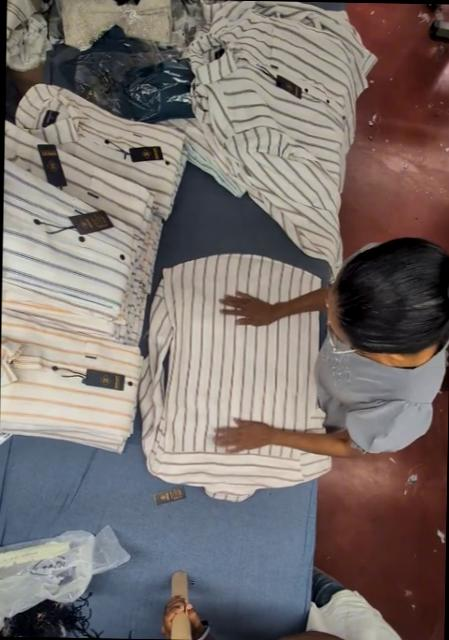new-garment: (138, 254, 329, 500)
